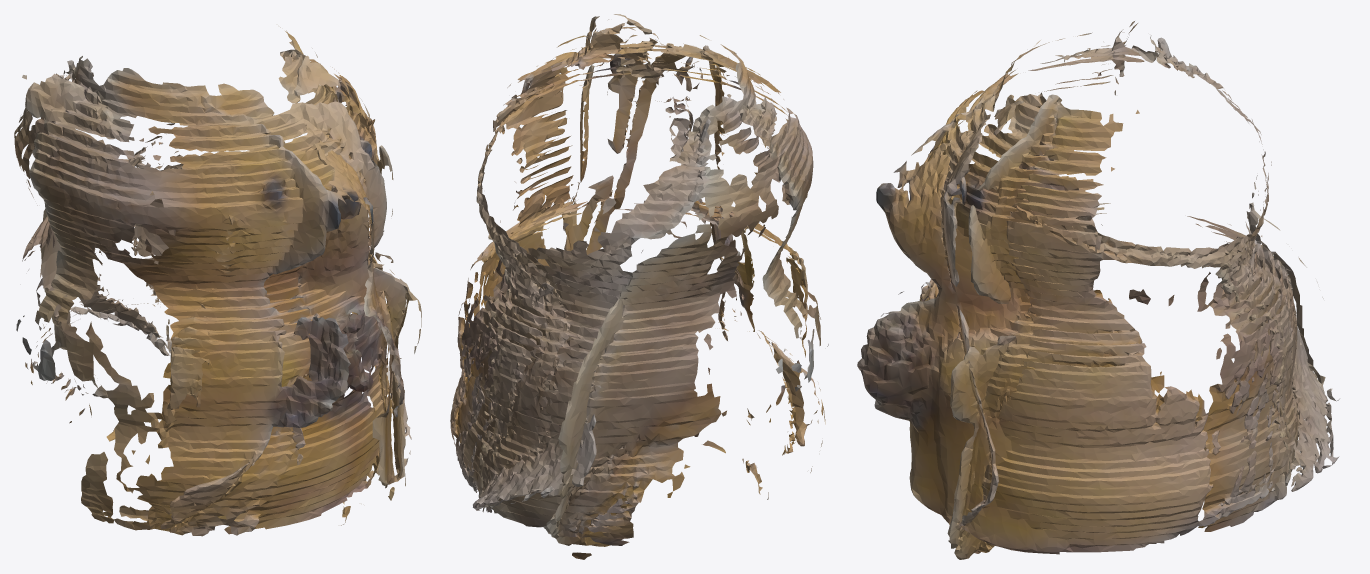
Rendered from finished_model_20260507_163627.glb.
3 views of the same model, side by side, from view 1: azimuth 30°, elevation 25°; view 2: azimuth 150°, elevation 25°; view 3: azimuth 270°, elevation 25° (orthographic). The views are drawn at different scales.
Visible parts, largest first — view 1: finished_model_20260507_163627.ply; view 2: finished_model_20260507_163627.ply; view 3: finished_model_20260507_163627.ply.
Part boxes in pixels (box(x1,y1,x2,y2)): finished_model_20260507_163627.ply: box(14, 27, 421, 536); finished_model_20260507_163627.ply: box(450, 14, 828, 559); finished_model_20260507_163627.ply: box(857, 21, 1339, 559).
Bounding box in the file's own units: 0.0713 × 0.0993 × 0.0951.
